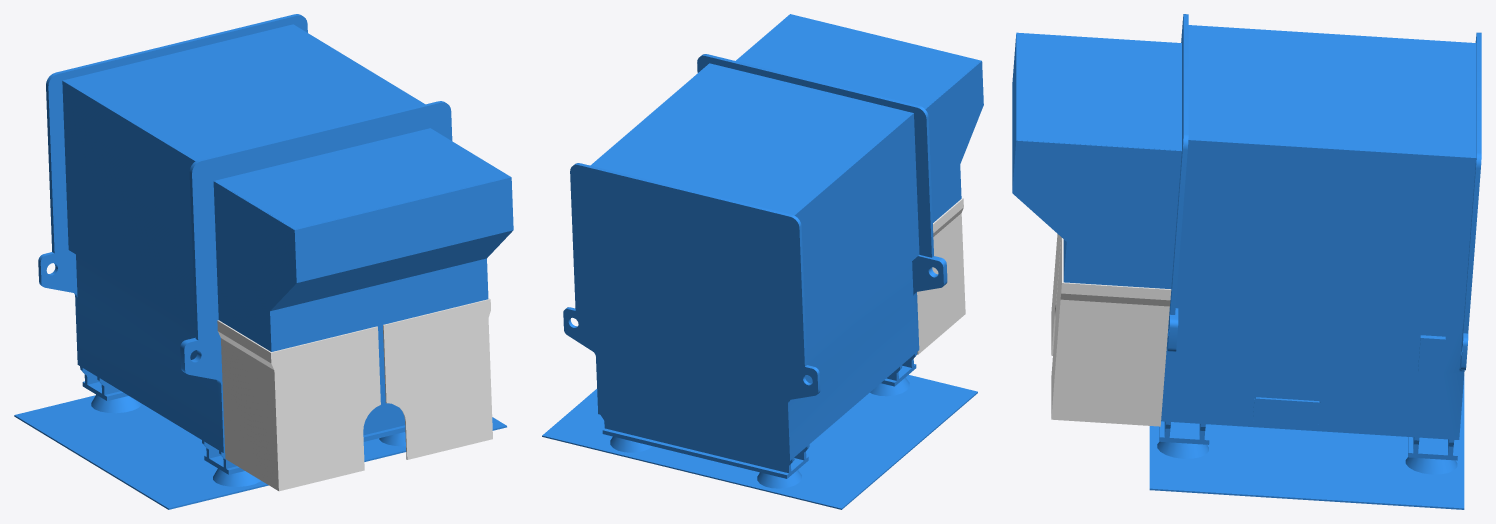
The picture shows the model from 3 angles, left to right: view 1: azimuth 30°, elevation 25°; view 2: azimuth 150°, elevation 25°; view 3: azimuth 270°, elevation 25°; orthographic projection. The views are drawn at different scales.
Parts seen in each view (by area): view 1: _0C6E641F3DC18749666DF3C59C03E7384C05AFCA___62A847F87F40_7ac, _0C6E641F3DC18749666DF3C59C03E7384C05AFCA___7325FF14D543_073 (×2), _0C6E641F3DC18749666DF3C59C03E7384C05AFCA___B8A4396250C5_b4c, _0C6E641F3DC18749666DF3C59C03E7384C05AFCA___C906BBC76057_5e5; view 2: _0C6E641F3DC18749666DF3C59C03E7384C05AFCA___62A847F87F40_7ac, _0C6E641F3DC18749666DF3C59C03E7384C05AFCA___7325FF14D543_073 (×2), _0C6E641F3DC18749666DF3C59C03E7384C05AFCA___B8A4396250C5_b4c; view 3: _0C6E641F3DC18749666DF3C59C03E7384C05AFCA___62A847F87F40_7ac, _0C6E641F3DC18749666DF3C59C03E7384C05AFCA___7325FF14D543_073 (×2), _0C6E641F3DC18749666DF3C59C03E7384C05AFCA___C906BBC76057_5e5, _0C6E641F3DC18749666DF3C59C03E7384C05AFCA___B8A4396250C5_b4c.
Boxes of the visible parts, box(x1,y1,x2,y2) form: _0C6E641F3DC18749666DF3C59C03E7384C05AFCA___62A847F87F40_7ac: box(38, 14, 513, 486); _0C6E641F3DC18749666DF3C59C03E7384C05AFCA___7325FF14D543_073 (×2): box(14, 128, 508, 509); _0C6E641F3DC18749666DF3C59C03E7384C05AFCA___B8A4396250C5_b4c: box(217, 320, 380, 491); _0C6E641F3DC18749666DF3C59C03E7384C05AFCA___C906BBC76057_5e5: box(383, 298, 492, 459); _0C6E641F3DC18749666DF3C59C03E7384C05AFCA___62A847F87F40_7ac: box(563, 14, 983, 488); _0C6E641F3DC18749666DF3C59C03E7384C05AFCA___7325FF14D543_073 (×2): box(542, 15, 980, 509); _0C6E641F3DC18749666DF3C59C03E7384C05AFCA___B8A4396250C5_b4c: box(917, 198, 965, 354); _0C6E641F3DC18749666DF3C59C03E7384C05AFCA___62A847F87F40_7ac: box(1012, 14, 1481, 474); _0C6E641F3DC18749666DF3C59C03E7384C05AFCA___7325FF14D543_073 (×2): box(1018, 33, 1464, 509); _0C6E641F3DC18749666DF3C59C03E7384C05AFCA___C906BBC76057_5e5: box(1051, 237, 1171, 426); _0C6E641F3DC18749666DF3C59C03E7384C05AFCA___B8A4396250C5_b4c: box(1051, 234, 1061, 355).
Bounding box in the file's own units: 240 × 233 × 283.
